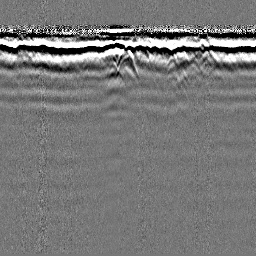cavity: (114, 47, 138, 77)
